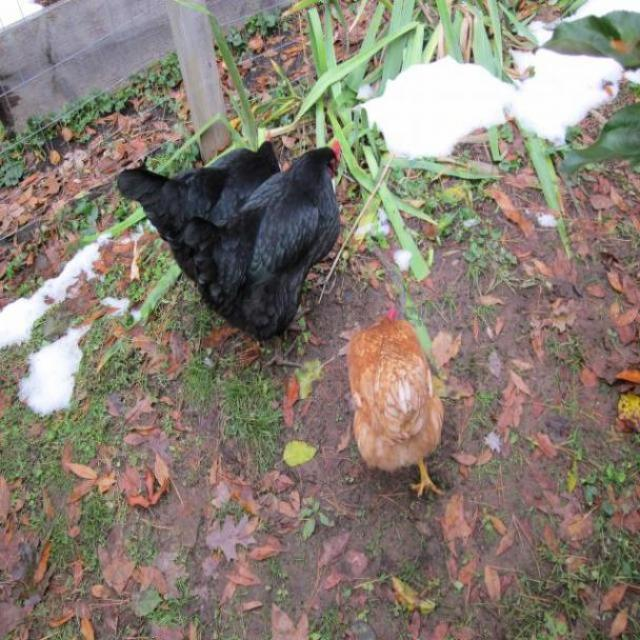Chicken: (130, 128, 342, 331), (348, 307, 455, 493)
